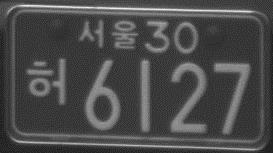0: (174, 20, 199, 55)
1: (135, 57, 157, 135)
2: (167, 61, 208, 136)
3: (144, 19, 170, 53)
6: (84, 58, 122, 130)
7: (212, 61, 253, 136)
서울_O: (78, 18, 139, 51)
허: (25, 57, 67, 106)
